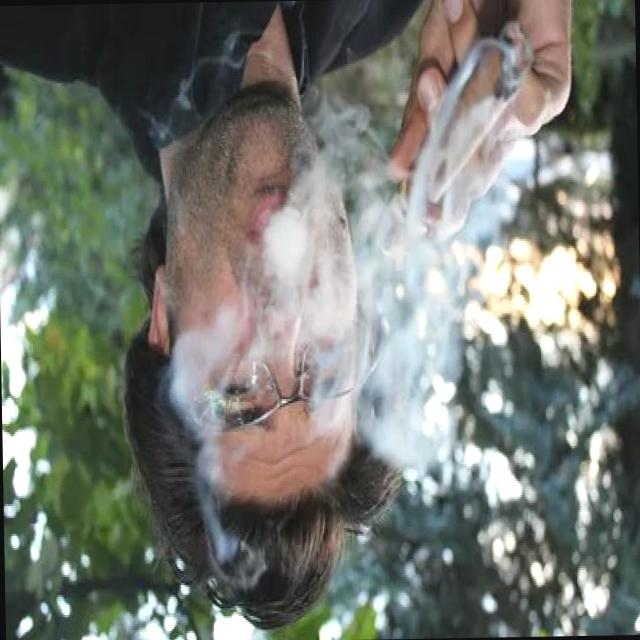cigarette: (372, 4, 542, 265)
